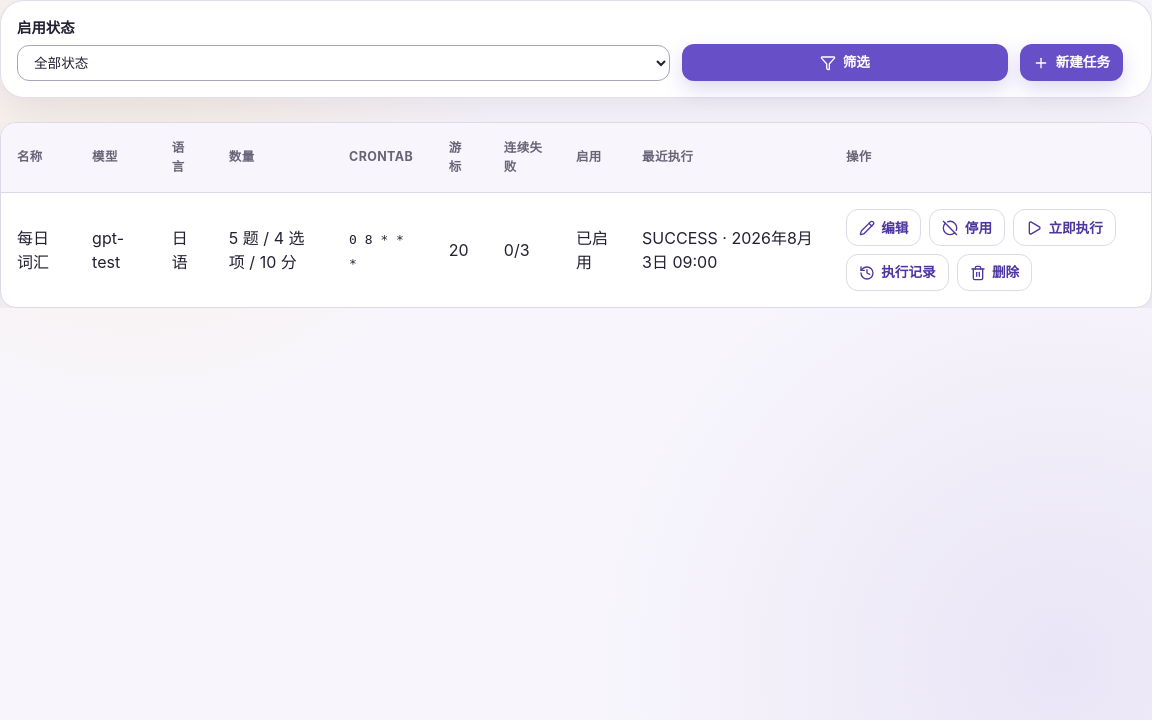
Test: 管理员 AI 任务页 › 删除失败保留确认弹窗并展示错误
Expected: the text "每日词汇" is shown, [1,193,76,307]
Click the button "删除": [994, 273] box [957,254,1032,291]
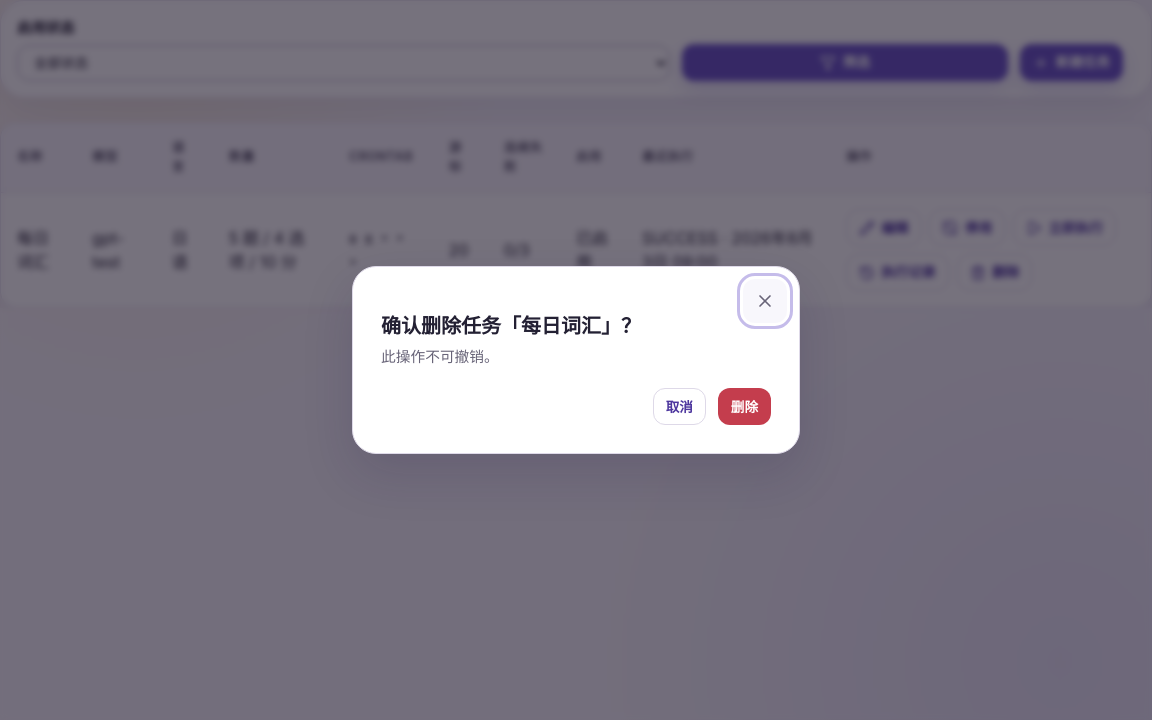
Click the button "删除": [744, 407] box [718,388,771,425]
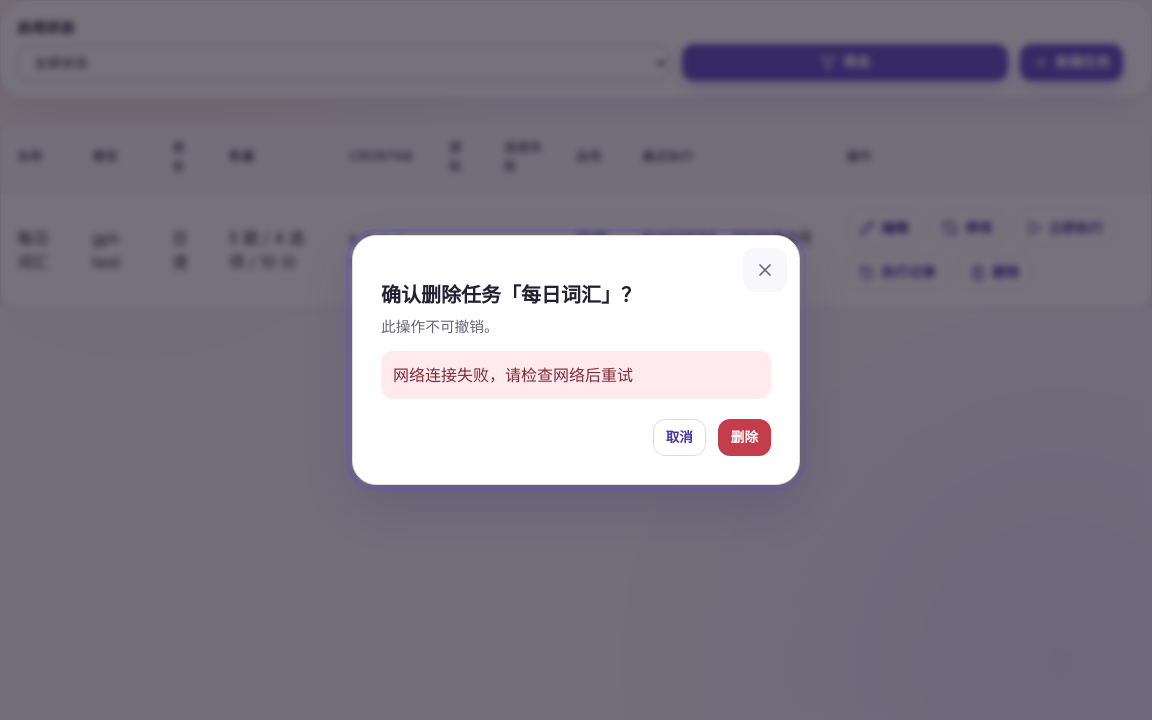
Expected: the dialog "确认删除任务「每日词汇」？" is shown, [352,235,800,485]
Expected: the message reads "网络连接失败，请检查网络后重试", [393,365,633,385]
